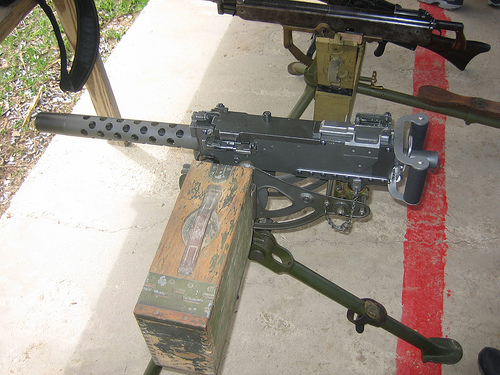rifle: (35, 102, 428, 191)
